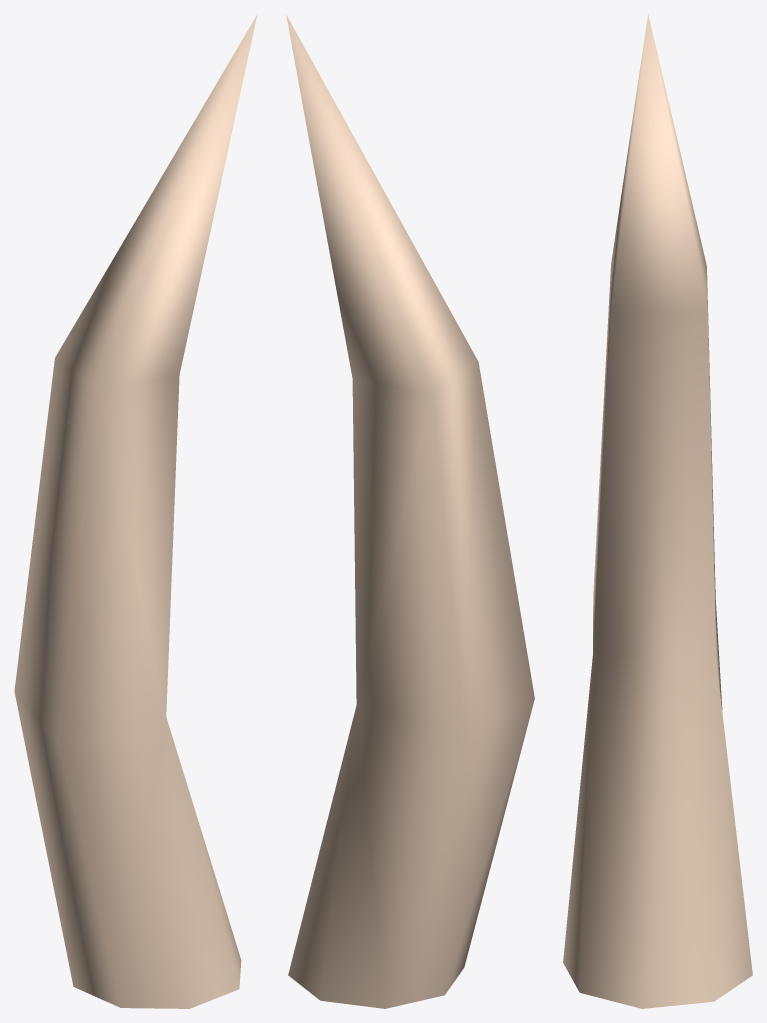
The model's file is Bone.fbx.
The picture shows the model from 3 angles, left to right: view 1: azimuth 30°, elevation 25°; view 2: azimuth 150°, elevation 25°; view 3: azimuth 270°, elevation 25°; orthographic projection. The views are drawn at different scales.
Visible parts, largest first — view 1: Bone; view 2: Bone; view 3: Bone.
Boxes of the visible parts, x1,y1,x2,y2 form: Bone: (14,14,257,1008); Bone: (286,14,534,1008); Bone: (563,14,752,1008).
Bounding box in the file's own units: 16.4 × 65.32 × 11.18.
